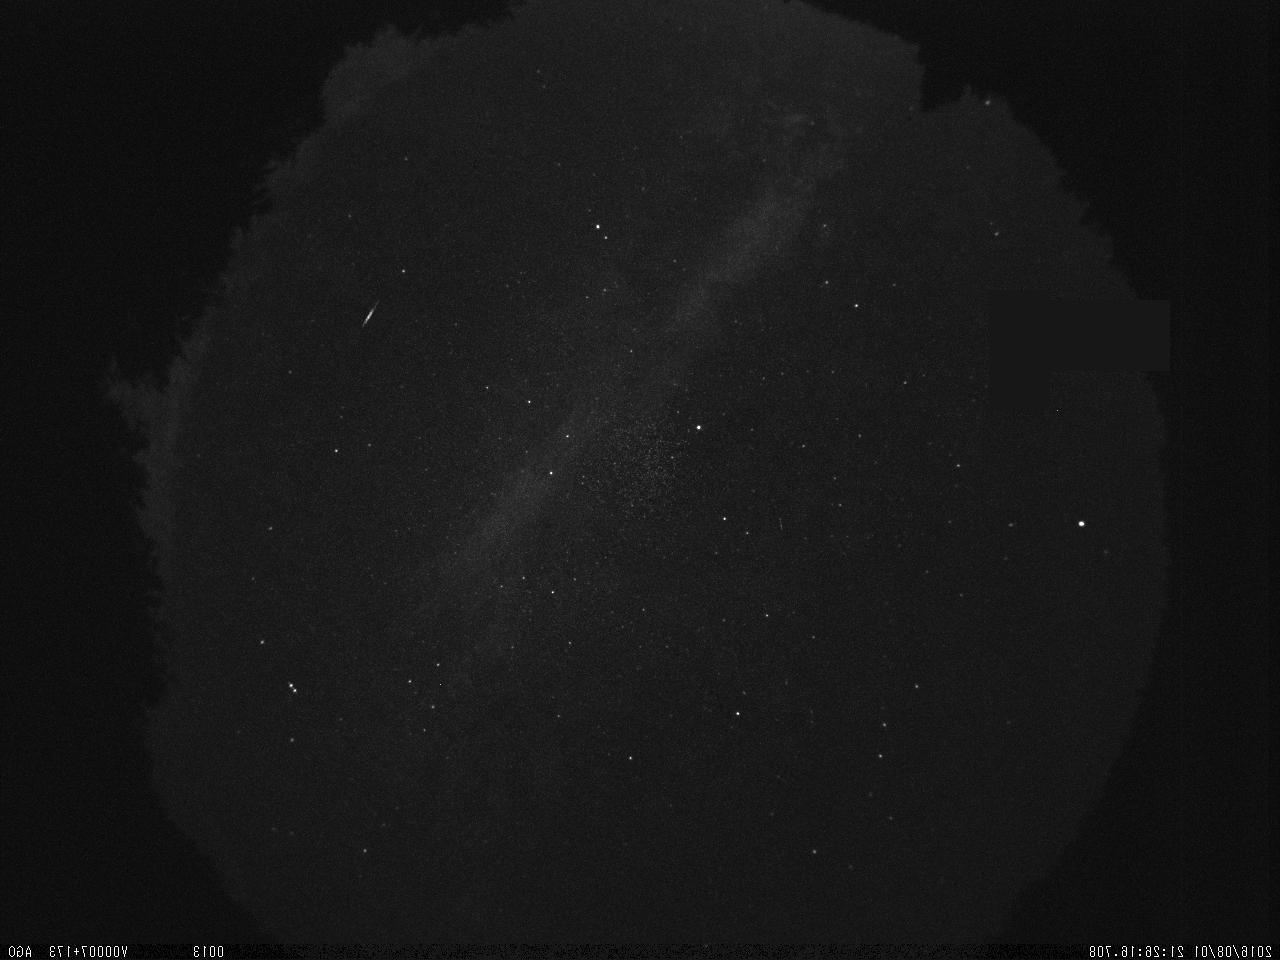meteor: (348, 297, 385, 337)
